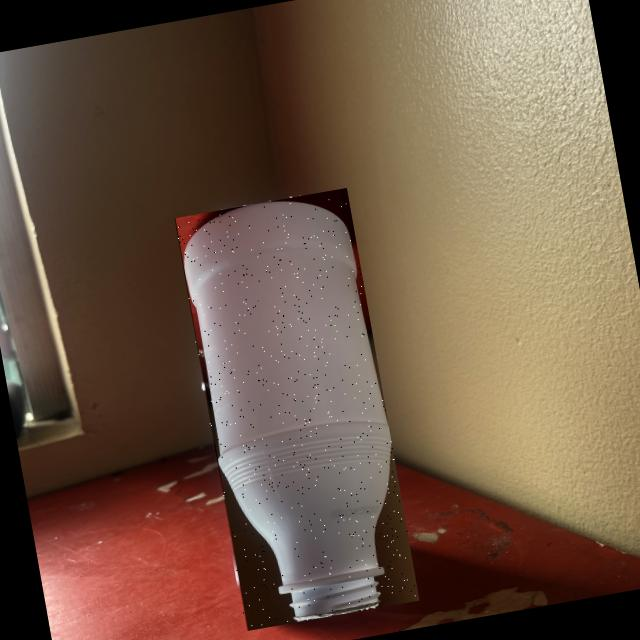HDPE_Bottle: (184, 201, 390, 619)
